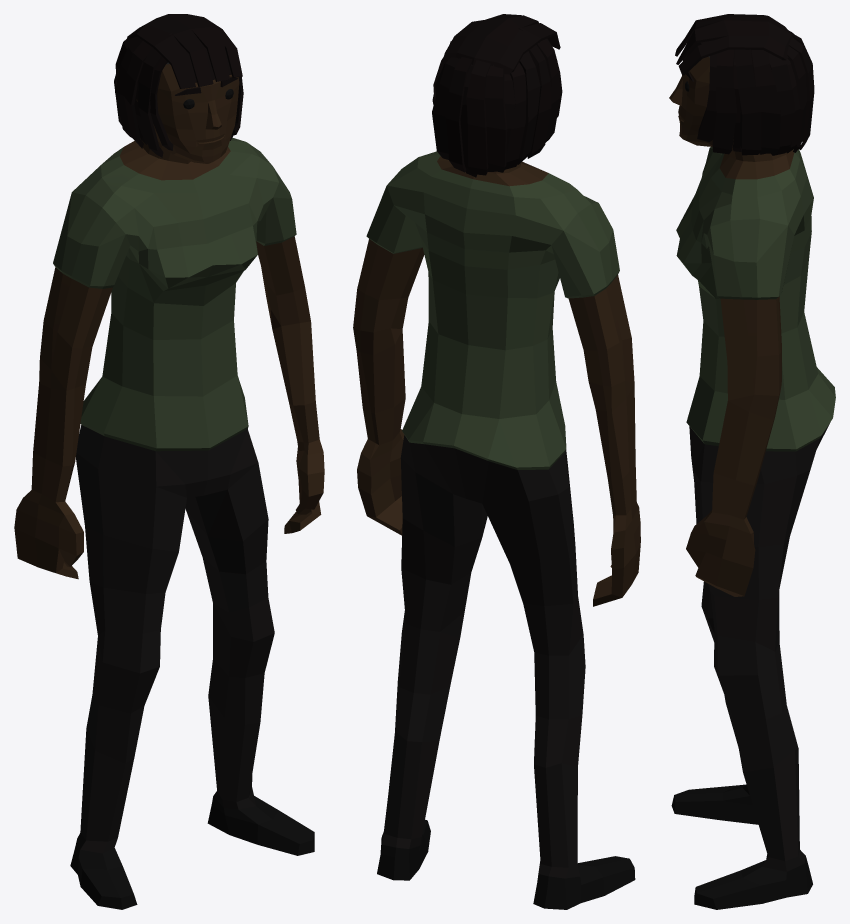
The picture shows the model from 3 angles, left to right: view 1: azimuth 30°, elevation 25°; view 2: azimuth 150°, elevation 25°; view 3: azimuth 270°, elevation 25°; orthographic projection.
Parts seen in each view (by area): view 1: Female_static; view 2: Female_static; view 3: Female_static.
Part boxes in pixels (x1,y1,x2,y2): Female_static: (14, 14, 324, 909); Female_static: (353, 14, 640, 909); Female_static: (669, 14, 835, 909).
Bounding box in the file's own units: 1.61 × 4.63 × 0.8406.
